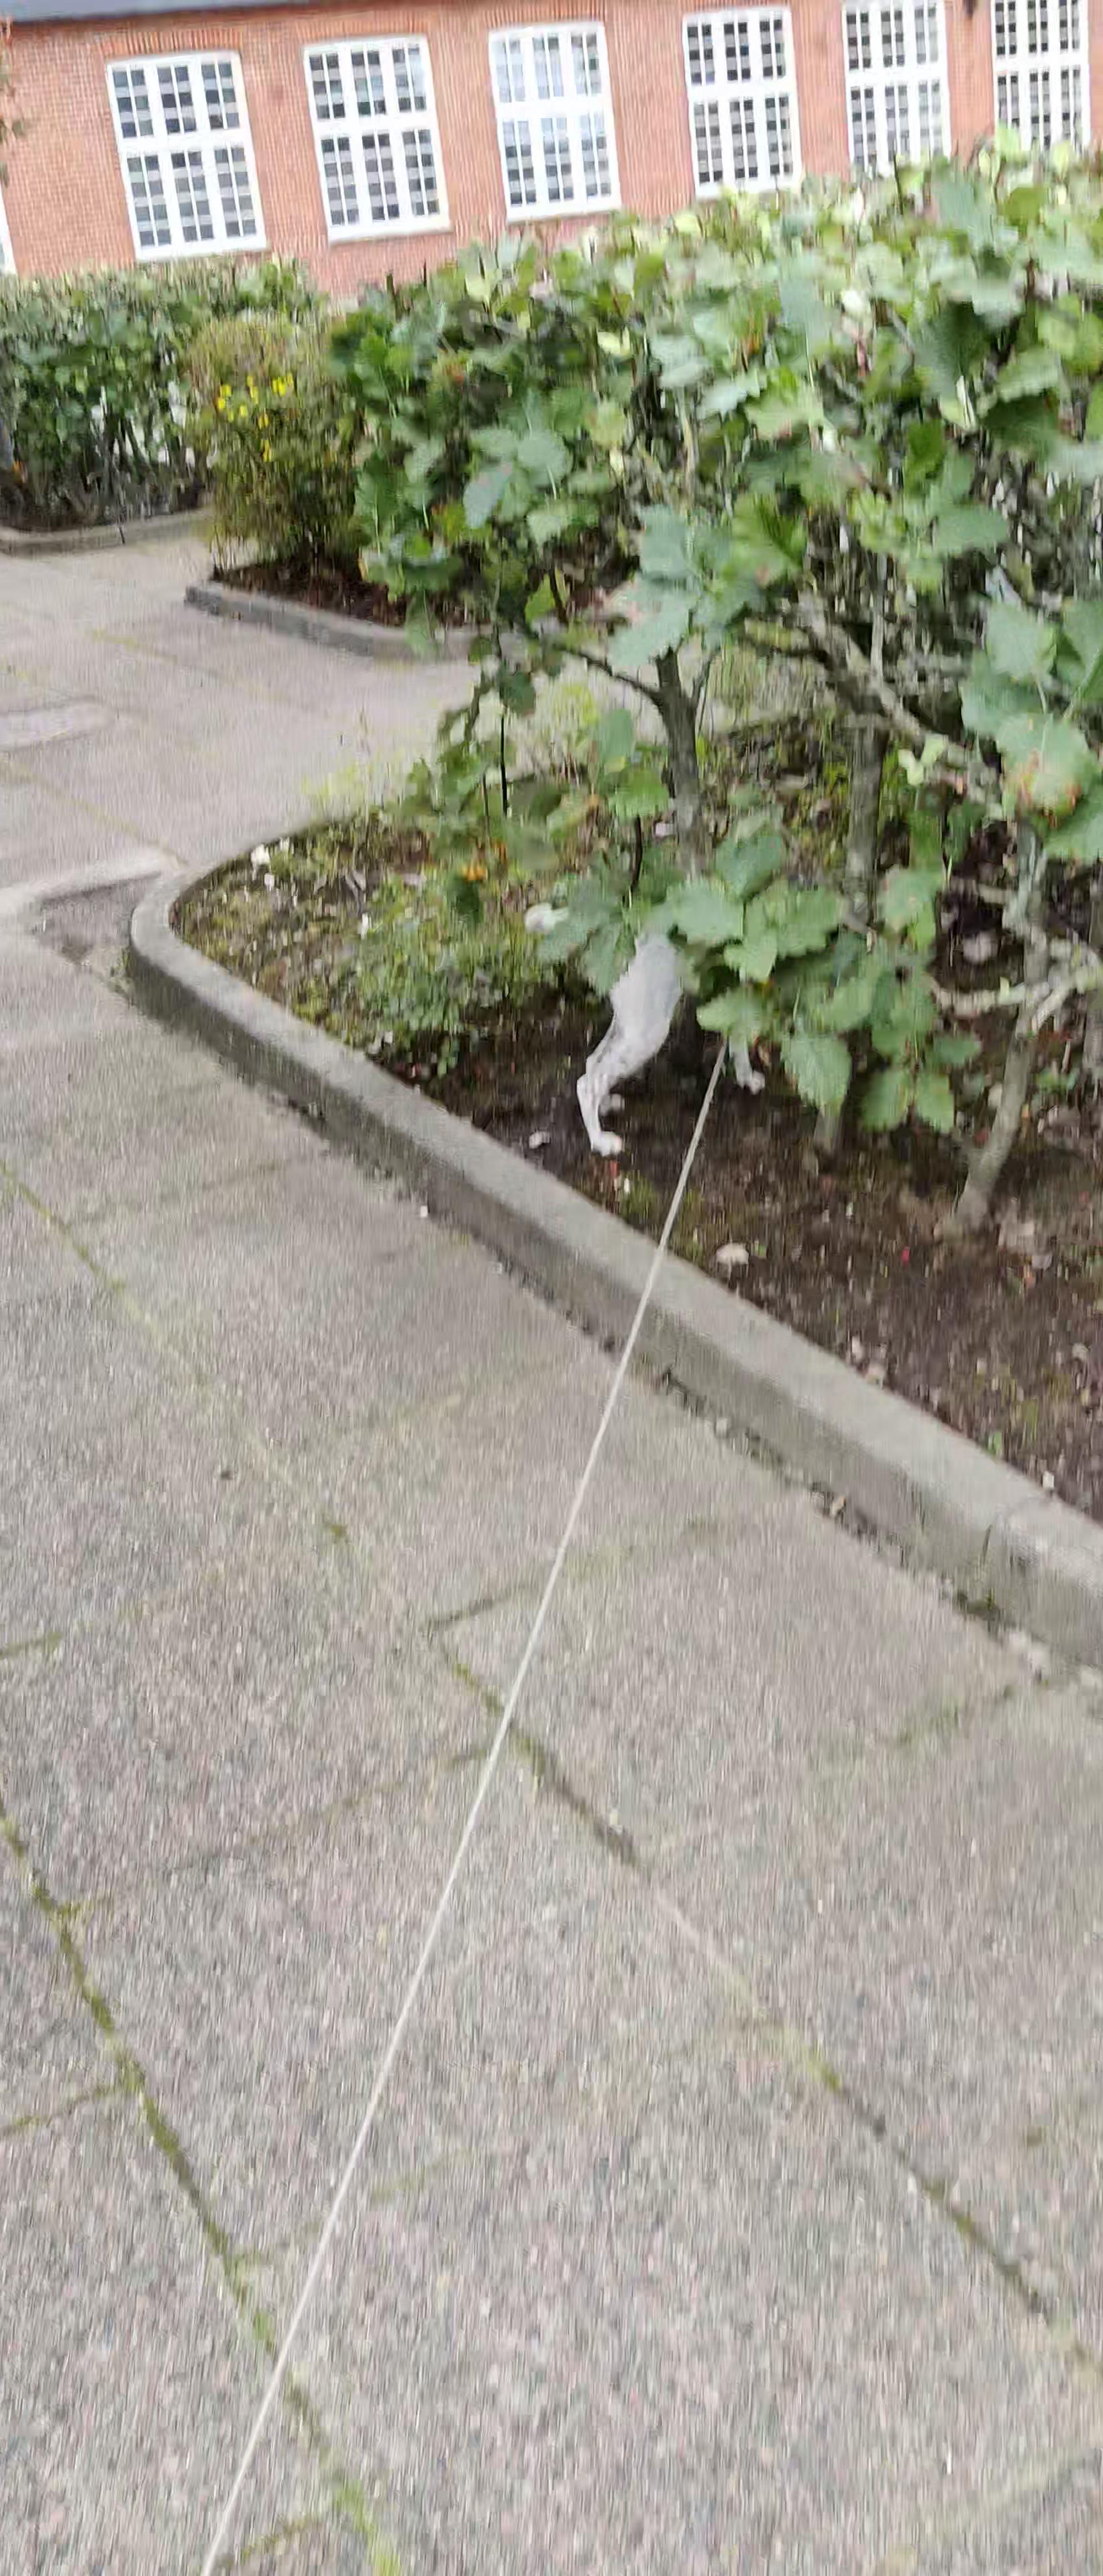Dog: (513, 862, 786, 1168)
